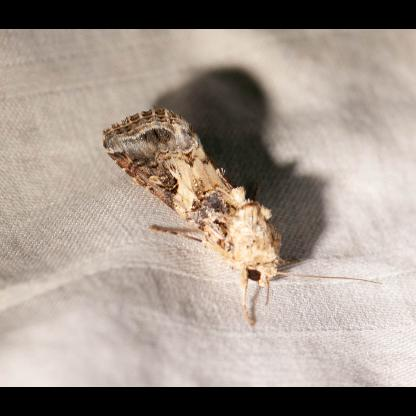Fall Armyworm Moth: (100, 102, 387, 331)
